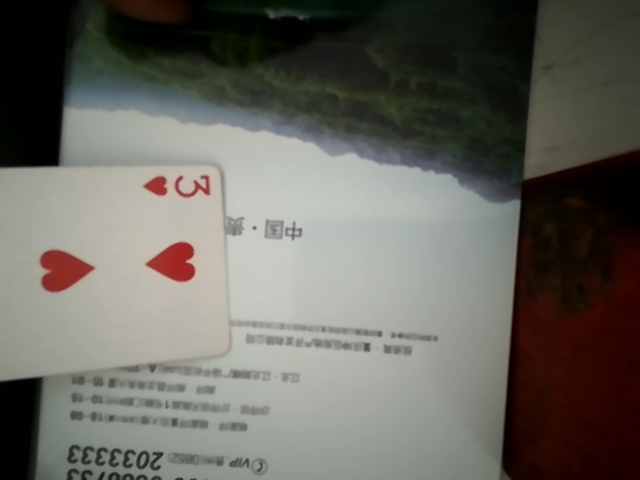hx 3: (0, 154, 233, 392)
